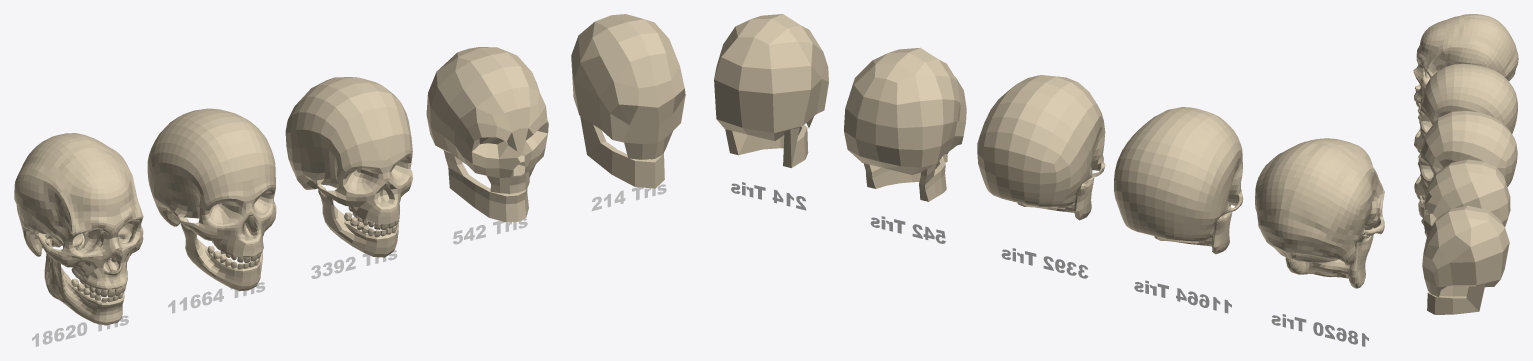
File: Human_Skull.high.glb
3 renders of one model, left to right at view 1: azimuth 30°, elevation 25°; view 2: azimuth 150°, elevation 25°; view 3: azimuth 270°, elevation 25°, orthographic. The views are drawn at different scales.
Visible parts, largest first — view 1: Object_6, Object_3, Object_5, Object_4, Object_2; view 2: Object_6, Object_5, Object_3, Object_4, Object_2; view 3: Object_6, Object_4, Object_3, Object_5.
Part boxes in pixels (x1,y1,x2,y2): Object_6: [426, 14, 685, 222]; Object_3: [14, 133, 143, 325]; Object_5: [147, 108, 276, 291]; Object_4: [285, 77, 413, 257]; Object_2: [32, 184, 666, 346]; Object_6: [714, 14, 966, 201]; Object_5: [1114, 107, 1243, 254]; Object_3: [1255, 138, 1384, 288]; Object_4: [977, 75, 1105, 220]; Object_2: [731, 182, 1368, 346]; Object_6: [1421, 159, 1510, 314]; Object_4: [1414, 110, 1517, 217]; Object_3: [1413, 14, 1518, 123]; Object_5: [1414, 63, 1517, 160].
Size of the model in its own units: 37.74 by 10.77 by 7.72.
